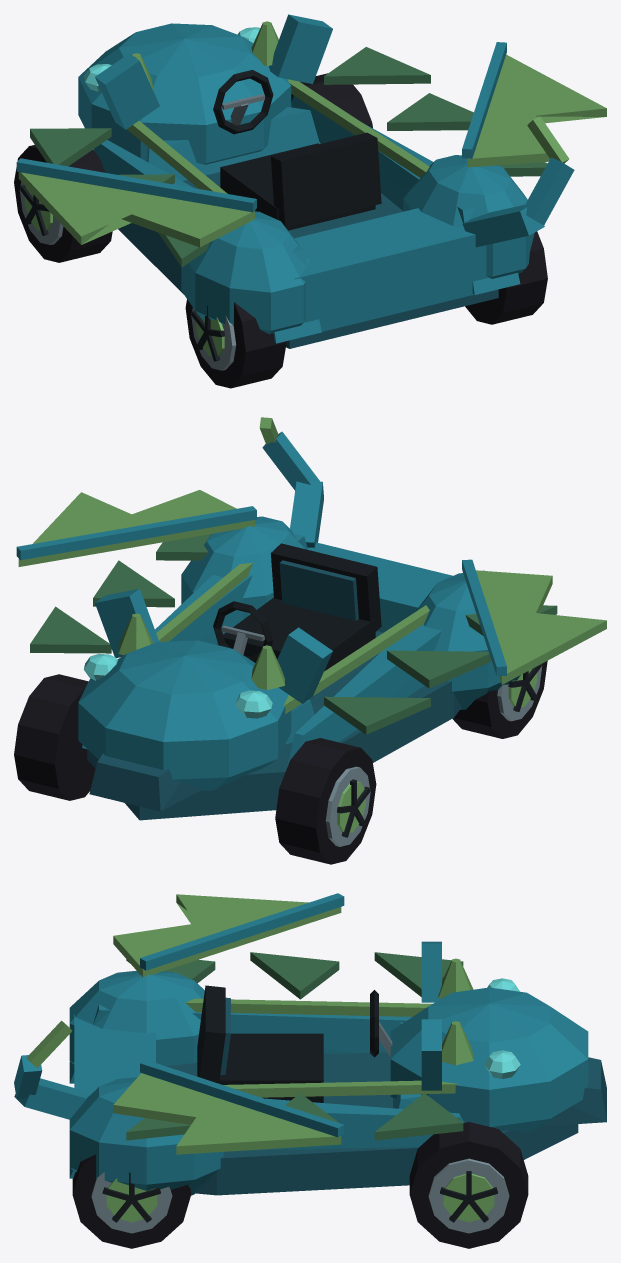
The model's file is kart.glb.
The picture shows the model from 3 angles, top to bottom: view 1: azimuth 30°, elevation 25°; view 2: azimuth 150°, elevation 25°; view 3: azimuth 270°, elevation 25°; orthographic projection.
Parts seen in each view (by area): view 1: identity-beast-beast-sculpted-prow-and-haunches, identity-beast-motif-dragon-wings, identity-beast-driver-cockpit, identity-beast-motif-leaves, wheel-rear-left, identity-beast-motif-tail, wheel-front-left, wheel-rear-right, wheel-front-right; view 2: identity-beast-beast-sculpted-prow-and-haunches, identity-beast-motif-dragon-wings, identity-beast-driver-cockpit, identity-beast-motif-leaves, wheel-front-left, wheel-front-right, wheel-rear-left, identity-beast-motif-tail; view 3: identity-beast-beast-sculpted-prow-and-haunches, identity-beast-motif-dragon-wings, wheel-front-right, identity-beast-driver-cockpit, identity-beast-motif-leaves, wheel-rear-right, identity-beast-motif-tail.
Boxes of the visible parts, x1,y1,x2,y2 form: identity-beast-beast-sculpted-prow-and-haunches: (78, 14, 534, 348); identity-beast-motif-dragon-wings: (16, 42, 606, 247); identity-beast-driver-cockpit: (213, 70, 381, 230); identity-beast-motif-leaves: (30, 47, 547, 267); wheel-rear-left: (185, 299, 286, 388); identity-beast-motif-tail: (462, 116, 574, 247); wheel-front-left: (14, 145, 112, 262); wheel-rear-right: (465, 231, 547, 324); wheel-front-right: (291, 73, 372, 128); identity-beast-beast-sculpted-prow-and-haunches: (78, 516, 520, 820); identity-beast-motif-dragon-wings: (16, 490, 606, 684); identity-beast-driver-cockpit: (213, 543, 381, 671); identity-beast-motif-leaves: (30, 534, 557, 734); wheel-front-left: (275, 738, 376, 864); wheel-front-right: (14, 674, 95, 800); wheel-rear-left: (452, 661, 547, 738); identity-beast-motif-tail: (259, 417, 323, 547); identity-beast-beast-sculpted-prow-and-haunches: (69, 941, 606, 1195); identity-beast-motif-dragon-wings: (113, 893, 344, 1154); wheel-front-right: (409, 1122, 528, 1248); identity-beast-driver-cockpit: (197, 985, 392, 1102); identity-beast-motif-leaves: (126, 952, 463, 1140); wheel-rear-right: (72, 1154, 190, 1248); identity-beast-motif-tail: (14, 1020, 90, 1119).
Bounding box in the file's own units: 3.22 × 1.3 × 3.2.
